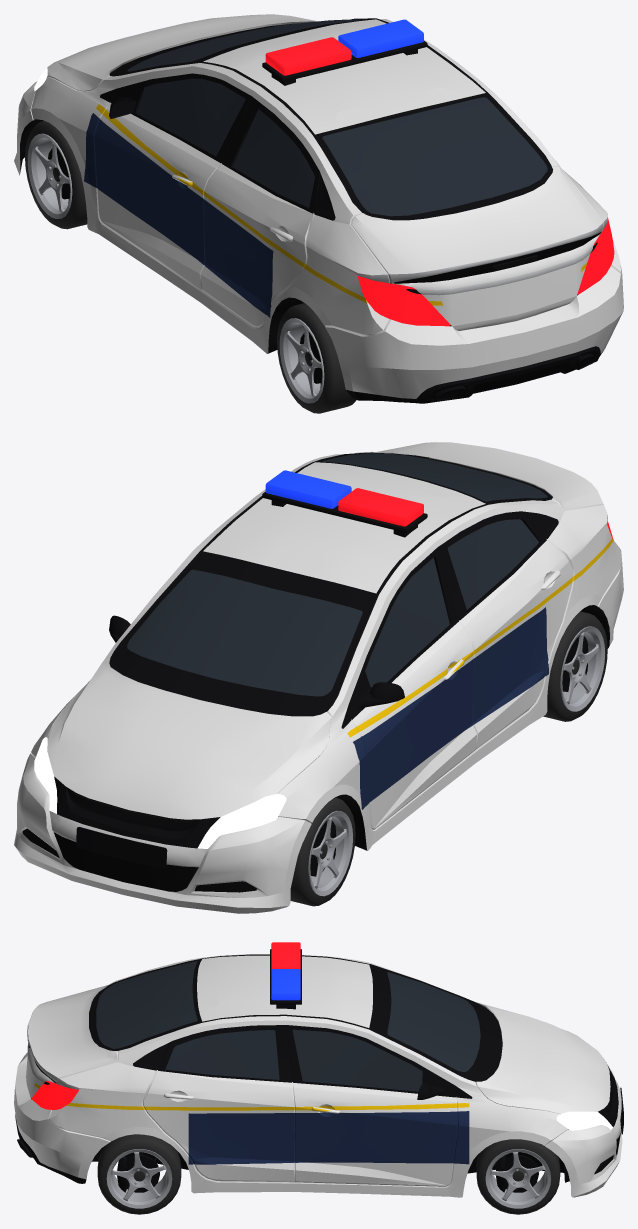
Rendered from police_patrol.glb.
3 renders of one model, top to bottom at view 1: azimuth 30°, elevation 25°; view 2: azimuth 150°, elevation 25°; view 3: azimuth 270°, elevation 25°, orthographic. The views are drawn at different scales.
Visible parts, largest first — view 1: Body, Glass, Bumper_R, Hood, Wheel_RL, Wheel_FL, Lamp_R, LightBar_Red, LightBar_Blue; view 2: Body, Glass, Hood, Bumper_F, Wheel_RL, Wheel_FL, Lamp_F, LightBar_Red, LightBar_Blue, Bumper_R, Mirror_L; view 3: Body, Glass, Hood, Wheel_RR, Bumper_R, Wheel_FR, Bumper_F, LightBar_Blue, Lamp_R, Lamp_F, LightBar_Red.
Boxes of the visible parts, bbox=[...] form: Body: bbox=[19, 18, 621, 387]; Glass: bbox=[127, 19, 547, 216]; Bumper_R: bbox=[332, 273, 623, 403]; Hood: bbox=[43, 14, 317, 106]; Wheel_RL: bbox=[277, 303, 356, 413]; Wheel_FL: bbox=[25, 120, 87, 229]; Lamp_R: bbox=[357, 217, 614, 326]; LightBar_Red: bbox=[265, 37, 351, 75]; LightBar_Blue: bbox=[338, 19, 423, 57]; Body: bbox=[19, 442, 621, 892]; Glass: bbox=[127, 453, 547, 696]; Hood: bbox=[44, 662, 352, 803]; Bumper_F: bbox=[14, 790, 297, 913]; Wheel_RL: bbox=[543, 611, 607, 721]; Wheel_FL: bbox=[290, 797, 355, 906]; Lamp_F: bbox=[34, 737, 286, 848]; LightBar_Red: bbox=[338, 488, 423, 526]; LightBar_Blue: bbox=[265, 470, 351, 508]; Bumper_R: bbox=[580, 548, 623, 648]; Mirror_L: bbox=[357, 682, 404, 708]; Body: bbox=[26, 949, 618, 1197]; Glass: bbox=[96, 961, 480, 1091]; Hood: bbox=[458, 1003, 599, 1119]; Wheel_RR: bbox=[97, 1134, 181, 1214]; Bumper_R: bbox=[14, 1052, 101, 1183]; Wheel_FR: bbox=[476, 1139, 560, 1214]; Bumper_F: bbox=[564, 1072, 623, 1197]; LightBar_Blue: bbox=[271, 969, 300, 1000]; Lamp_R: bbox=[31, 1081, 78, 1109]; Lamp_F: bbox=[556, 1111, 612, 1130]; LightBar_Red: bbox=[271, 942, 300, 969].
Bounding box in the file's own units: 2.09 × 1.78 × 4.98.
